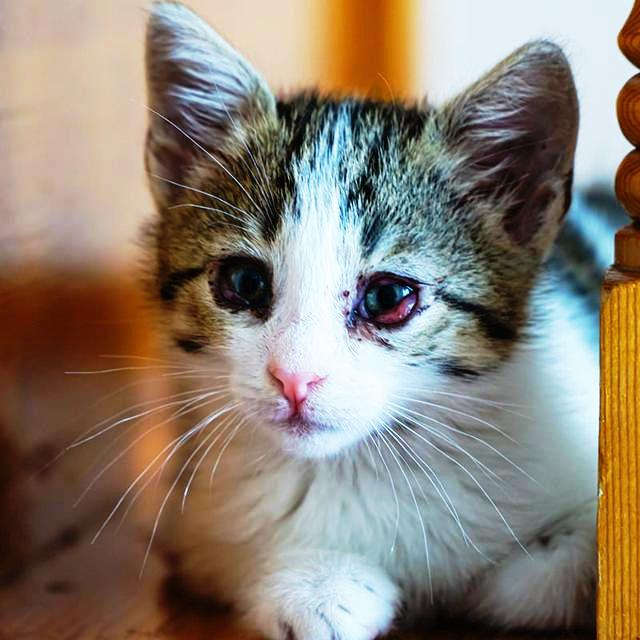eye_infection: (346, 270, 428, 331), (219, 248, 272, 311)
